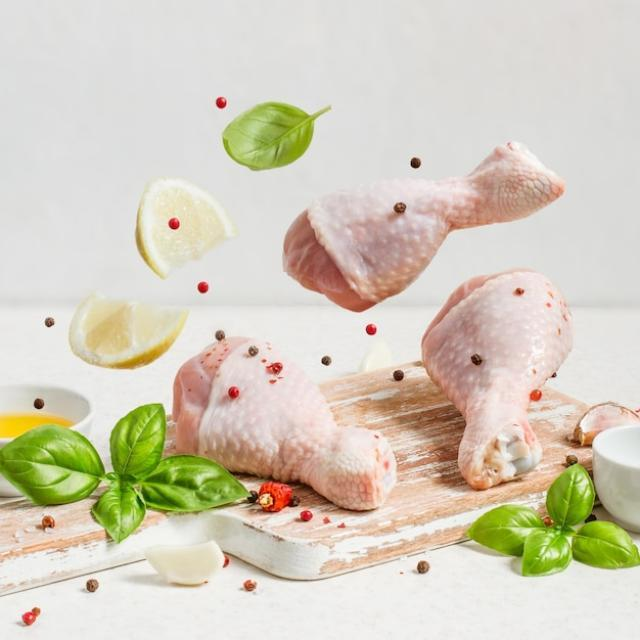leg: (286, 138, 552, 300), (155, 328, 389, 501), (424, 266, 572, 481)
